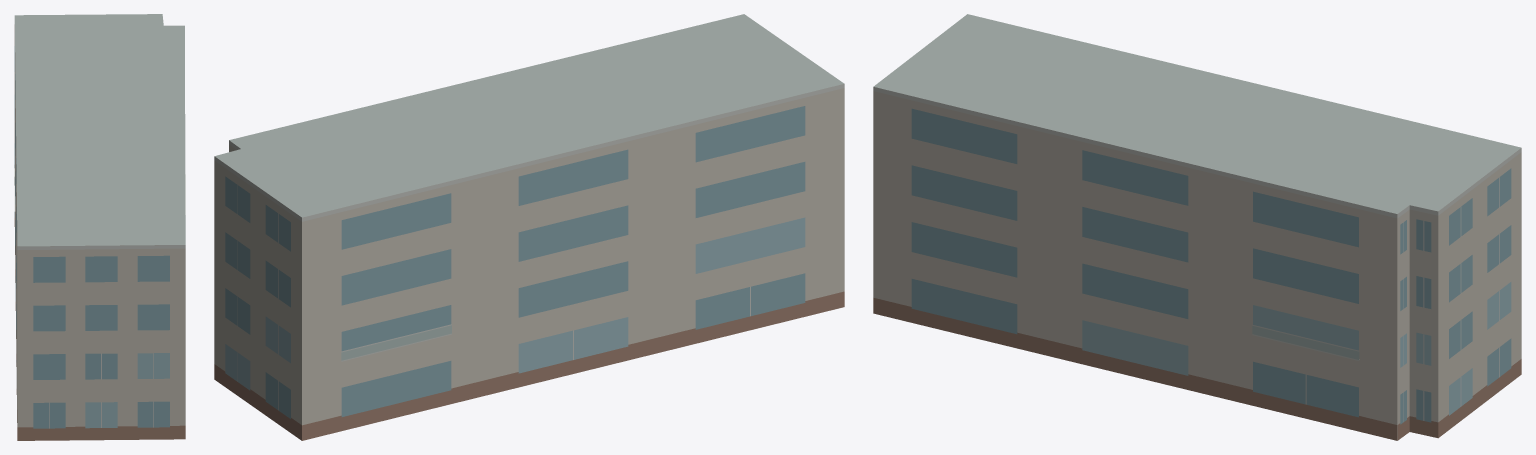
The model's file is survey-upis-32802855.glb.
The picture shows the model from 3 angles, left to right: view 1: azimuth 30°, elevation 25°; view 2: azimuth 150°, elevation 25°; view 3: azimuth 270°, elevation 25°; orthographic projection. The views are drawn at different scales.
Visible parts, largest first — view 1: survey-upis-32802855.tmp; view 2: survey-upis-32802855.tmp; view 3: survey-upis-32802855.tmp.
Boxes of the visible parts, left/top/right/bottom form: survey-upis-32802855.tmp: left=14, top=14, right=185, bottom=440; survey-upis-32802855.tmp: left=214, top=14, right=844, bottom=440; survey-upis-32802855.tmp: left=873, top=14, right=1521, bottom=440.
Size of the model in its own units: 24.43 by 12.9 by 33.44.
